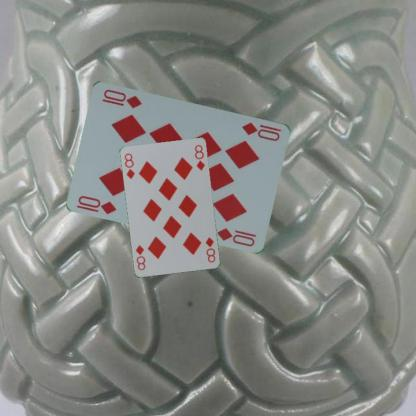10d: (74, 192, 118, 216), (239, 119, 283, 142)
8d: (203, 235, 217, 264), (122, 151, 136, 180)
